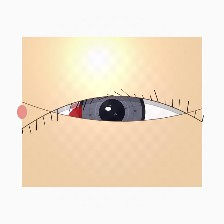hemorrhage_spot: (57, 85, 137, 149)
